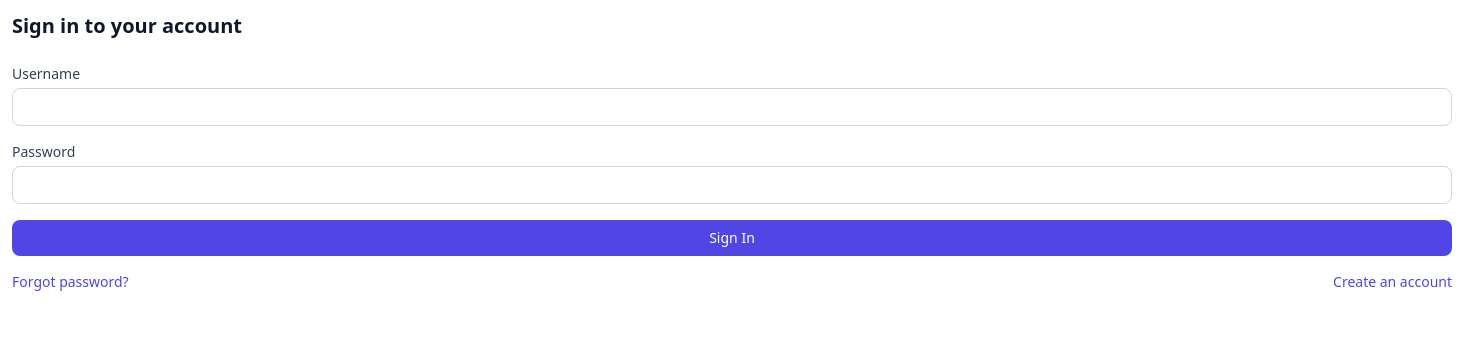
Test case: LoginPage › shows a server error message on invalid credentials
Type "alice" into the field labelled "Username" at (732,107), box [12, 88, 1452, 126]
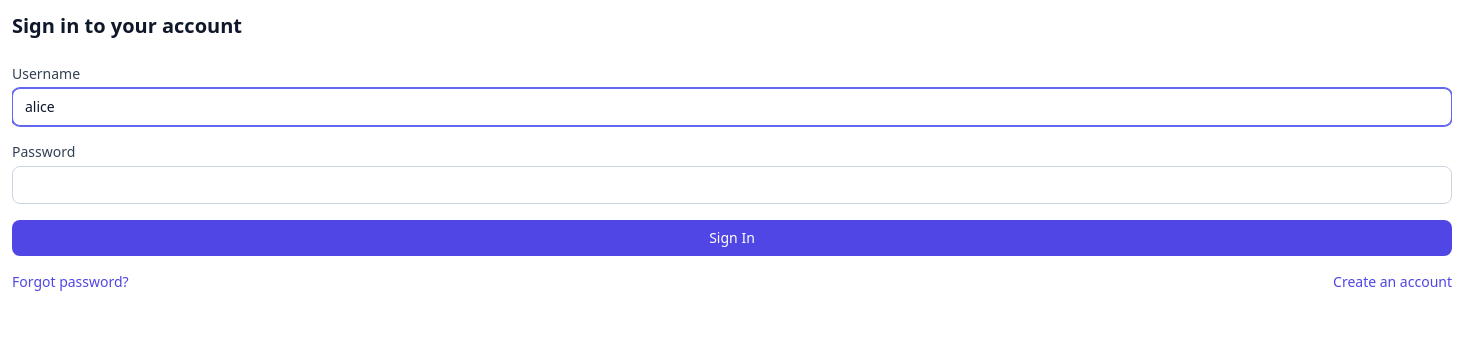
Type "wrongpass" into the password field labelled "Password" at (732,185), box [12, 166, 1452, 204]
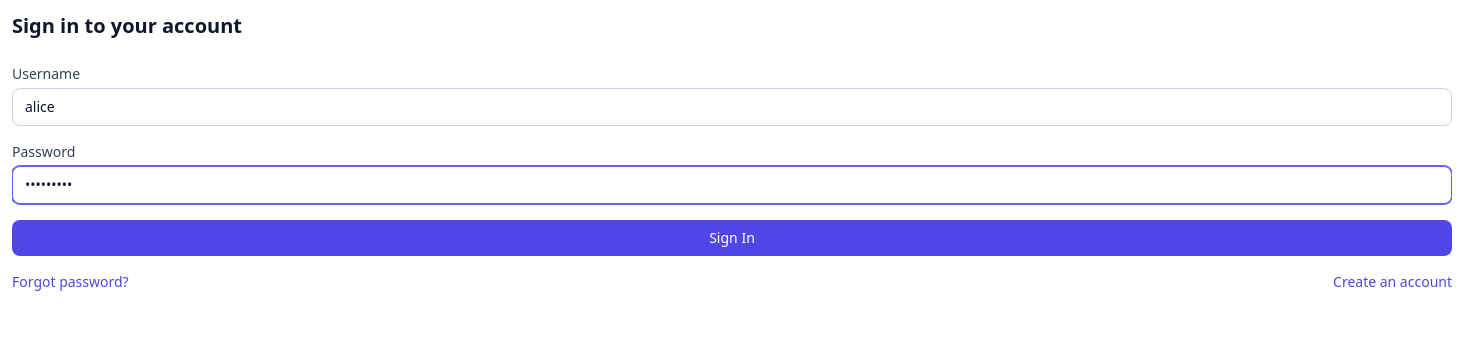
Click the button "Sign In" at (732,238), box [12, 220, 1452, 256]
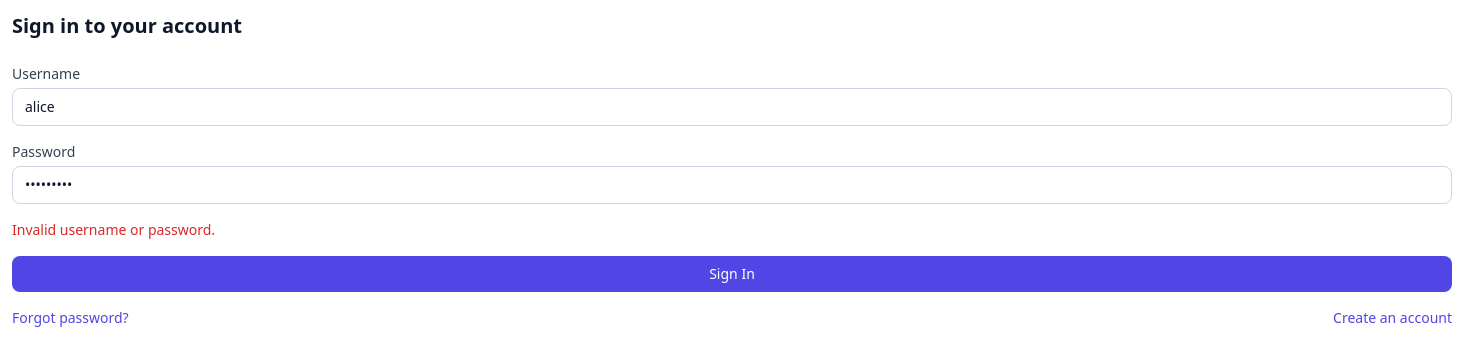
Check: the text "Invalid username or password." is shown, box [12, 220, 215, 239]
